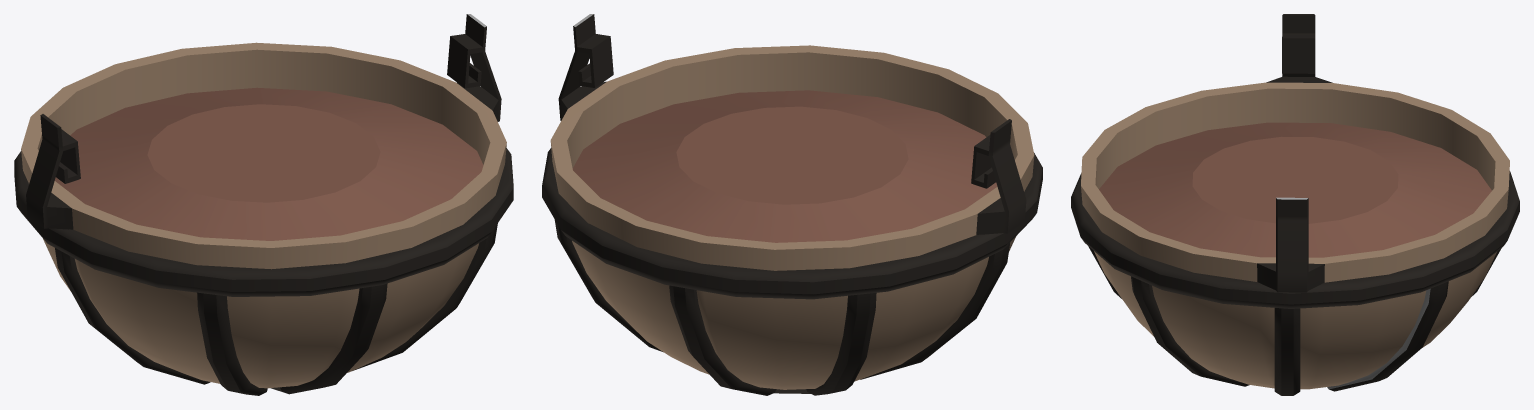
The model's file is flower basket.fbx.
The picture shows the model from 3 angles, left to right: view 1: azimuth 30°, elevation 25°; view 2: azimuth 150°, elevation 25°; view 3: azimuth 270°, elevation 25°; orthographic projection. The views are drawn at different scales.
Parts seen in each view (by area): view 1: pCylinder35; view 2: pCylinder35; view 3: pCylinder35.
Part boxes in pixels (x1,y1,x2,y2): pCylinder35: (14, 14, 513, 395); pCylinder35: (542, 14, 1042, 395); pCylinder35: (1071, 14, 1519, 395).
Size of the model in its own units: 3.66 by 2.24 by 3.5.
